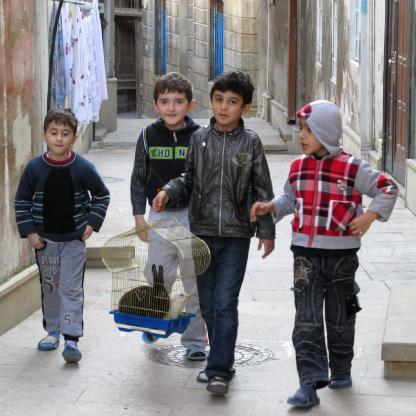person: (278, 99, 396, 412), (188, 68, 269, 392), (16, 106, 109, 364), (133, 73, 195, 219)
